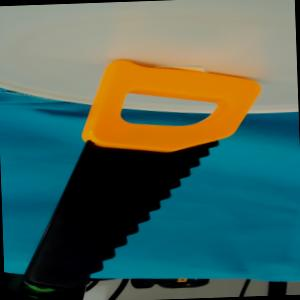serrote: (14, 54, 269, 292)
